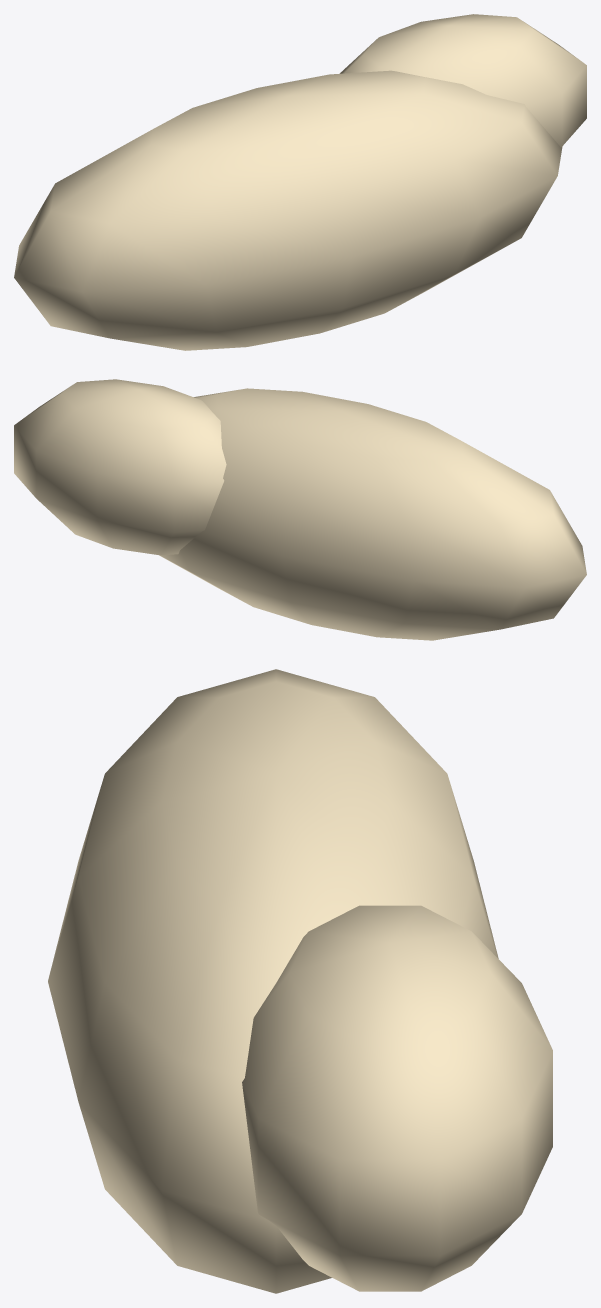
File: galangal.fbx
3 renders of one model, top to bottom at view 1: azimuth 30°, elevation 25°; view 2: azimuth 150°, elevation 25°; view 3: azimuth 270°, elevation 25°, orthographic. The views are drawn at different scales.
Parts seen in each view (by area): view 1: galangal; view 2: galangal; view 3: galangal.
Boxes of the visible parts, x1,y1,x2,y2 form: galangal: (14, 14, 586, 350); galangal: (14, 379, 586, 640); galangal: (48, 669, 552, 1293).
Bounding box in the file's own units: 0.2152 × 0.08 × 0.0885.
